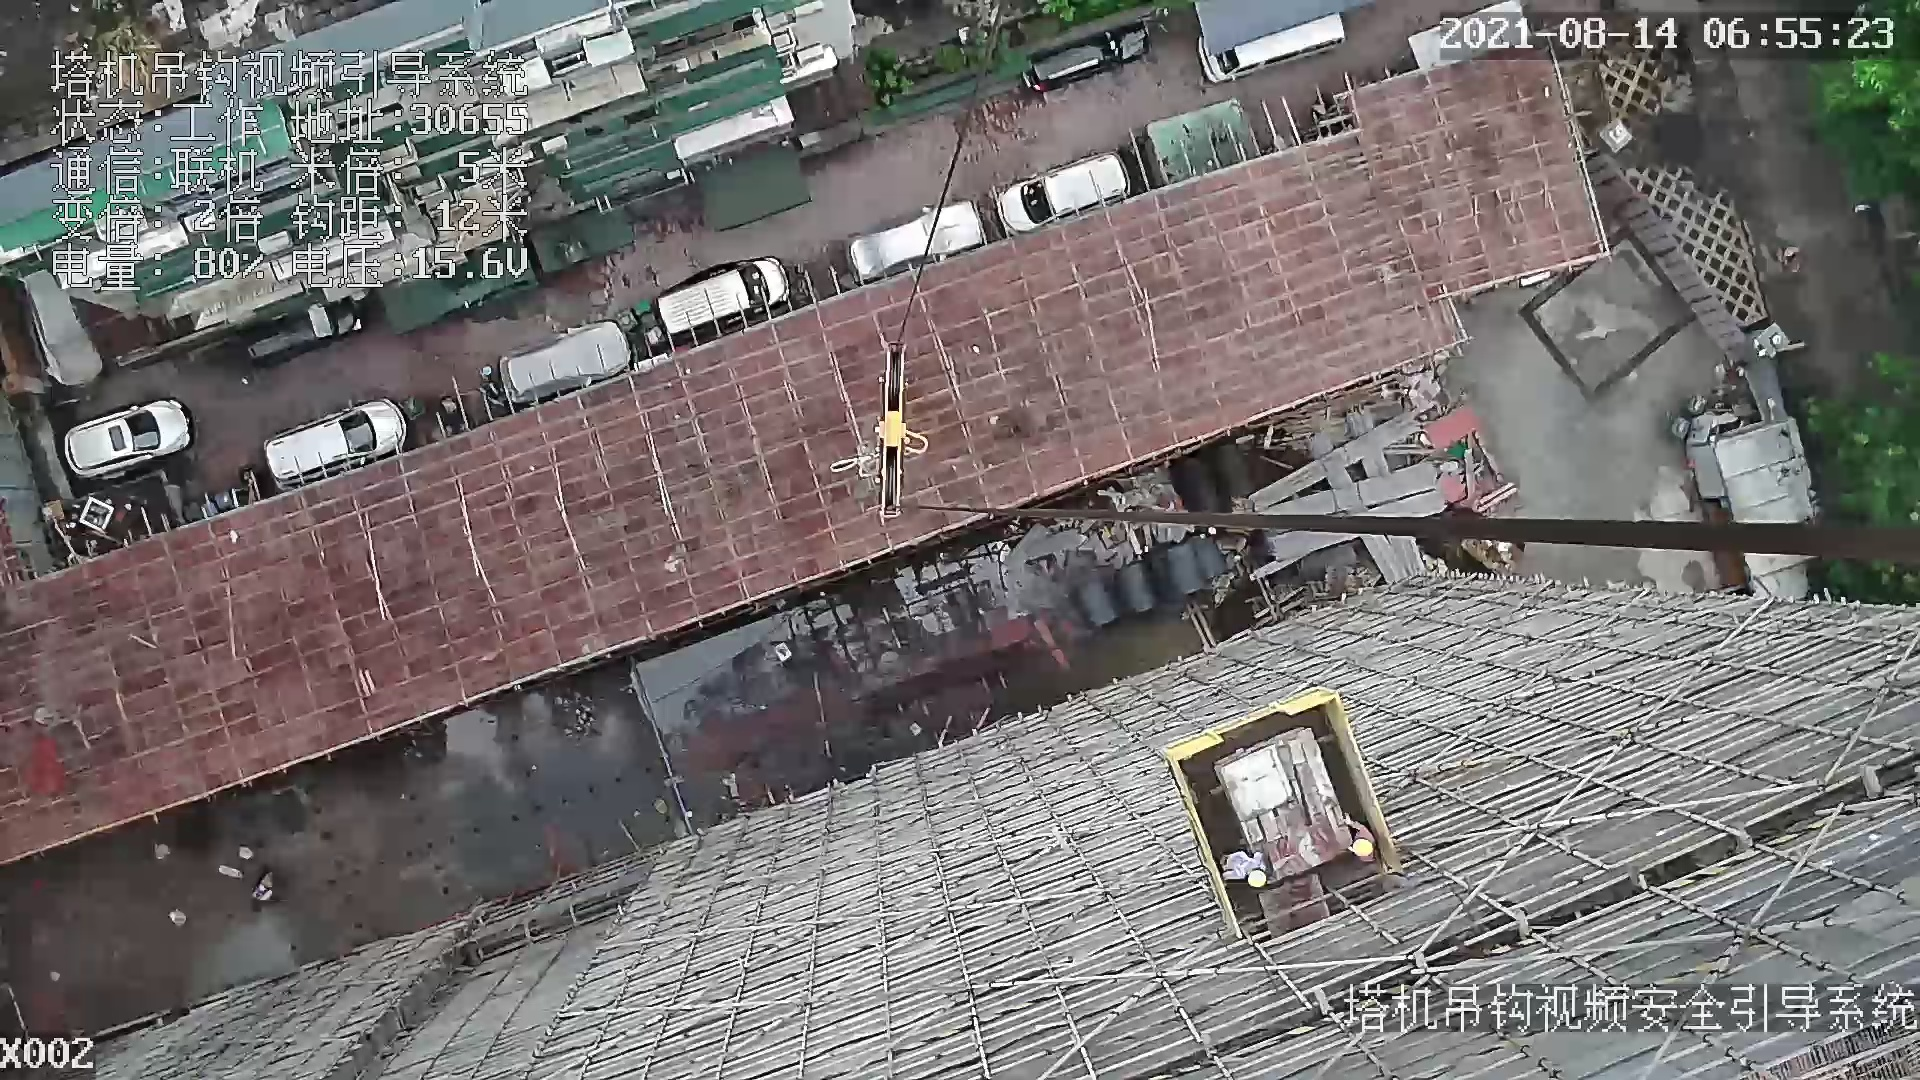board: (1215, 724, 1361, 884)
helmet: (1353, 838, 1373, 857), (1248, 871, 1267, 887)
hook: (869, 337, 929, 518)
person: (1209, 842, 1270, 887), (1344, 812, 1382, 871)
rebar: (1250, 412, 1416, 511), (1262, 458, 1438, 516), (1353, 535, 1408, 585), (1388, 536, 1426, 578)
